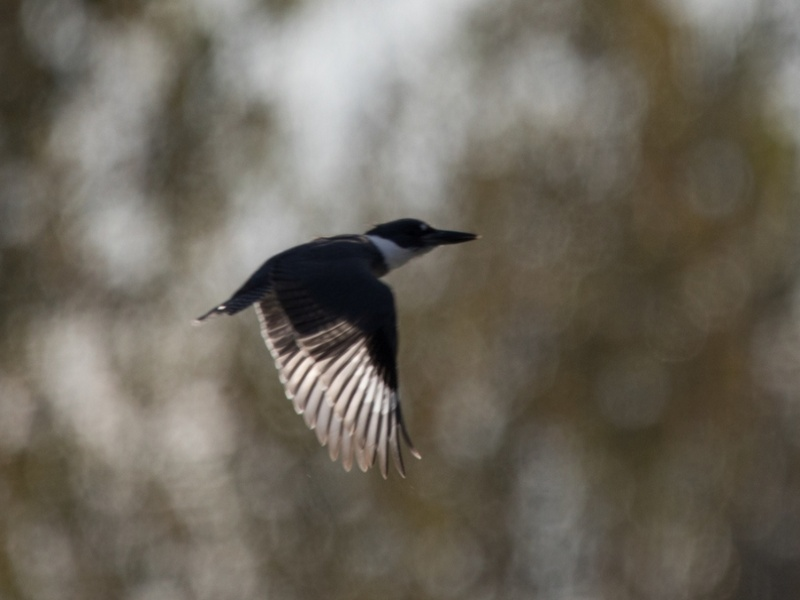kingfisher: (190, 216, 486, 480)
